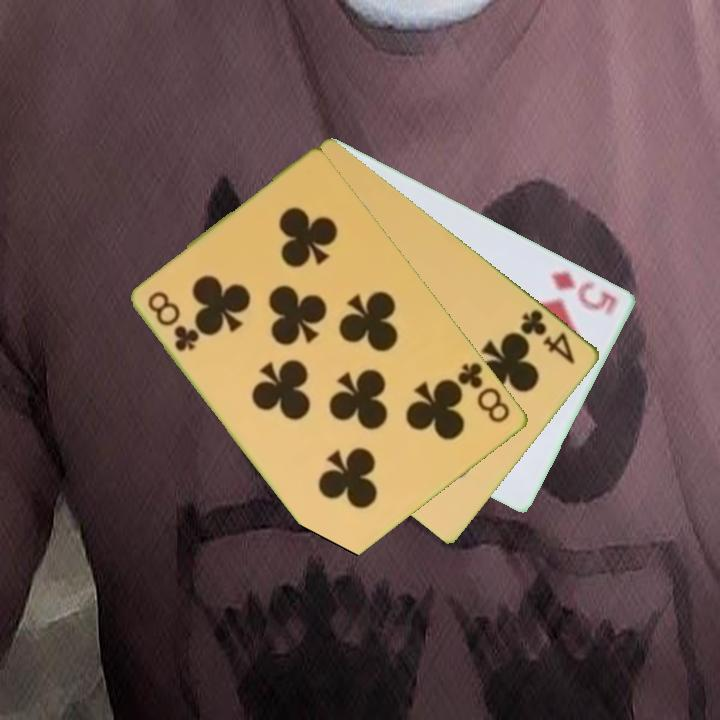4c: (517, 305, 579, 368)
5d: (547, 267, 621, 318)
8c: (454, 359, 514, 426), (144, 287, 203, 355)
